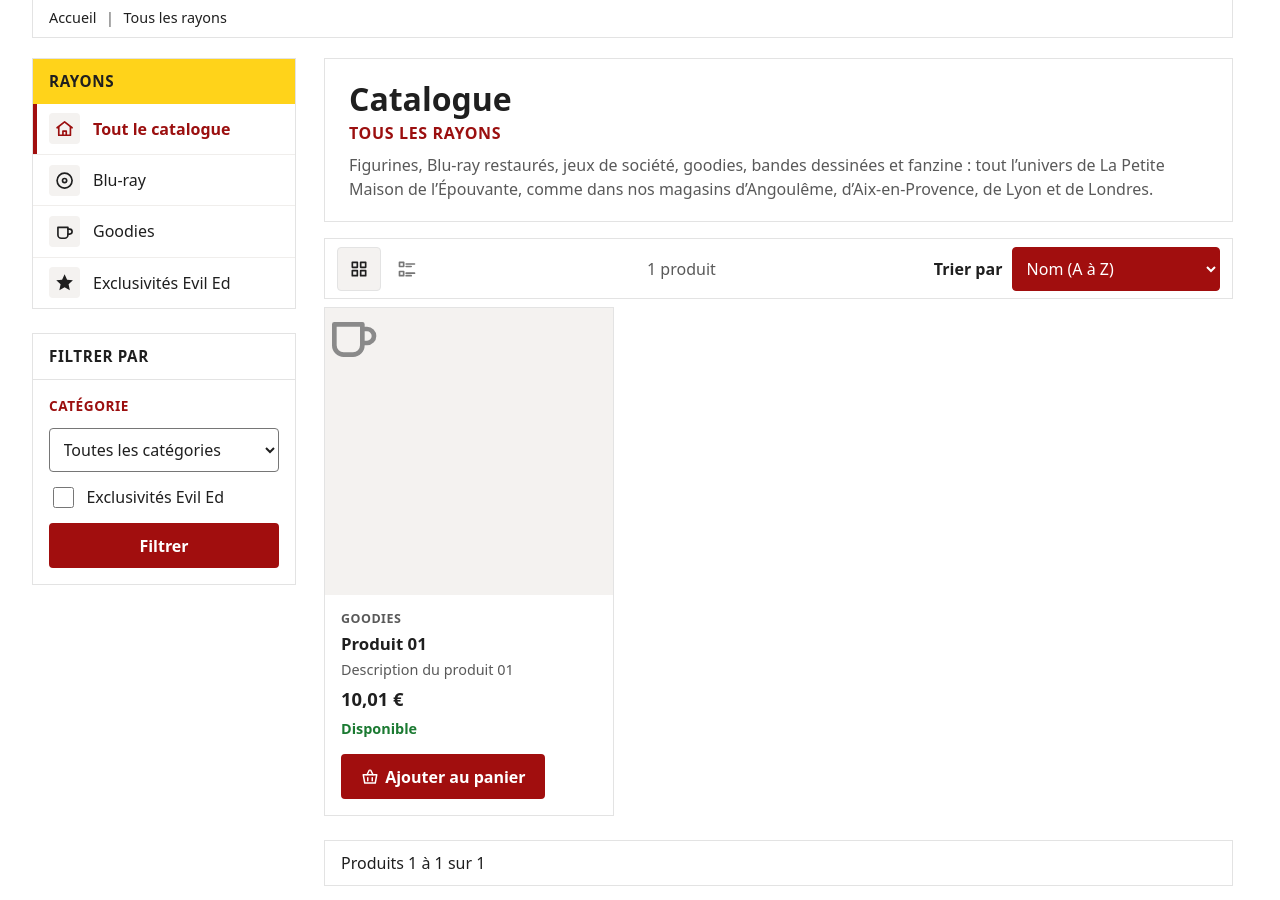
Scenario: Catalogue › filtre par catégorie via un bouton explicite (pas de changement de contexte au choix)
The image size is (1280, 900).
(page scrolled)
Expected: the link "Produit 01" is shown, [341,632,427,655]
Select "Blu-ray" in the dropdown labelled "Catégorie". click: (164, 450)
box: [49,428,279,472]
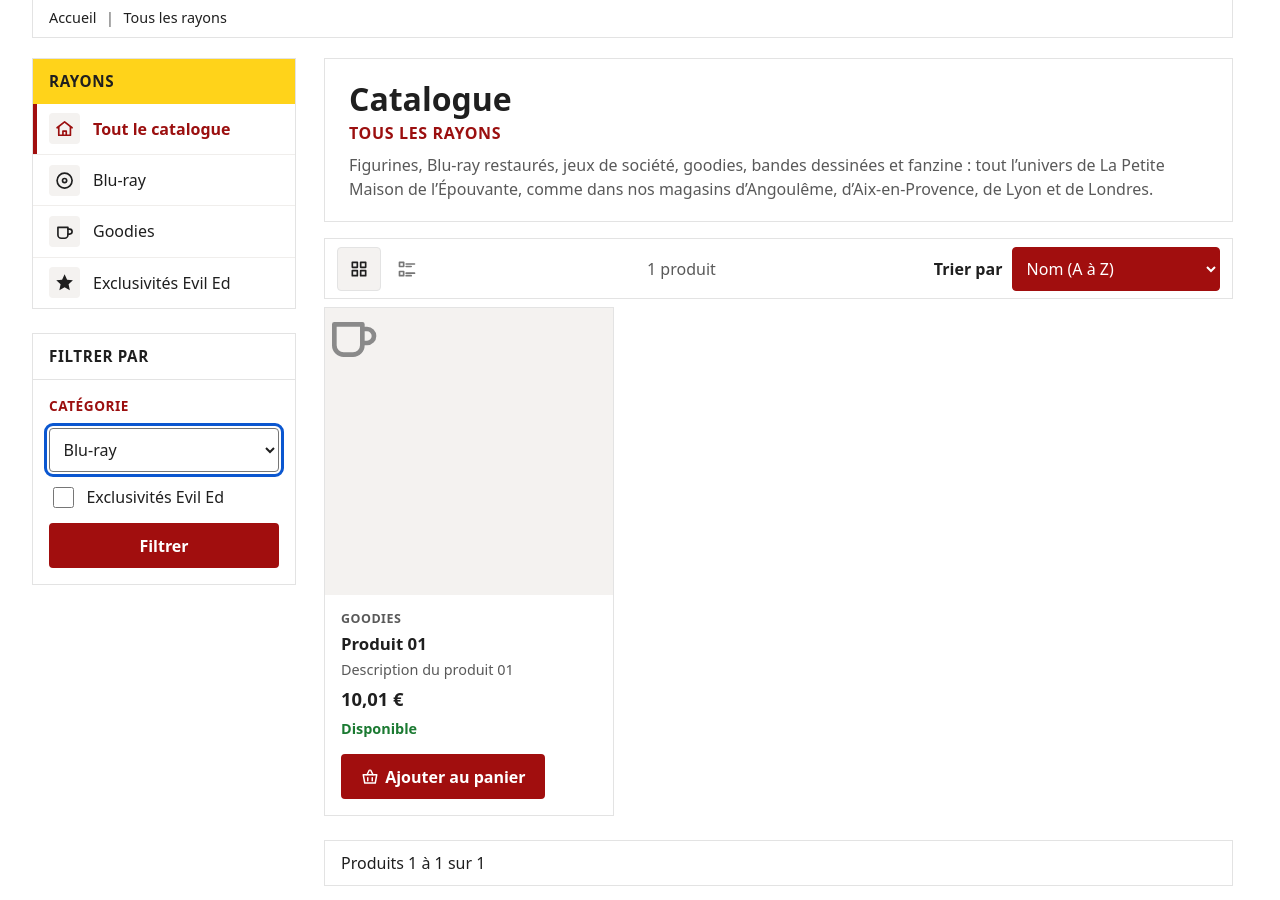
Expected: the link "Produit 01" is shown, [341,632,427,655]
Click the button "Filtrer". click: (164, 546)
box: [49,523,279,568]
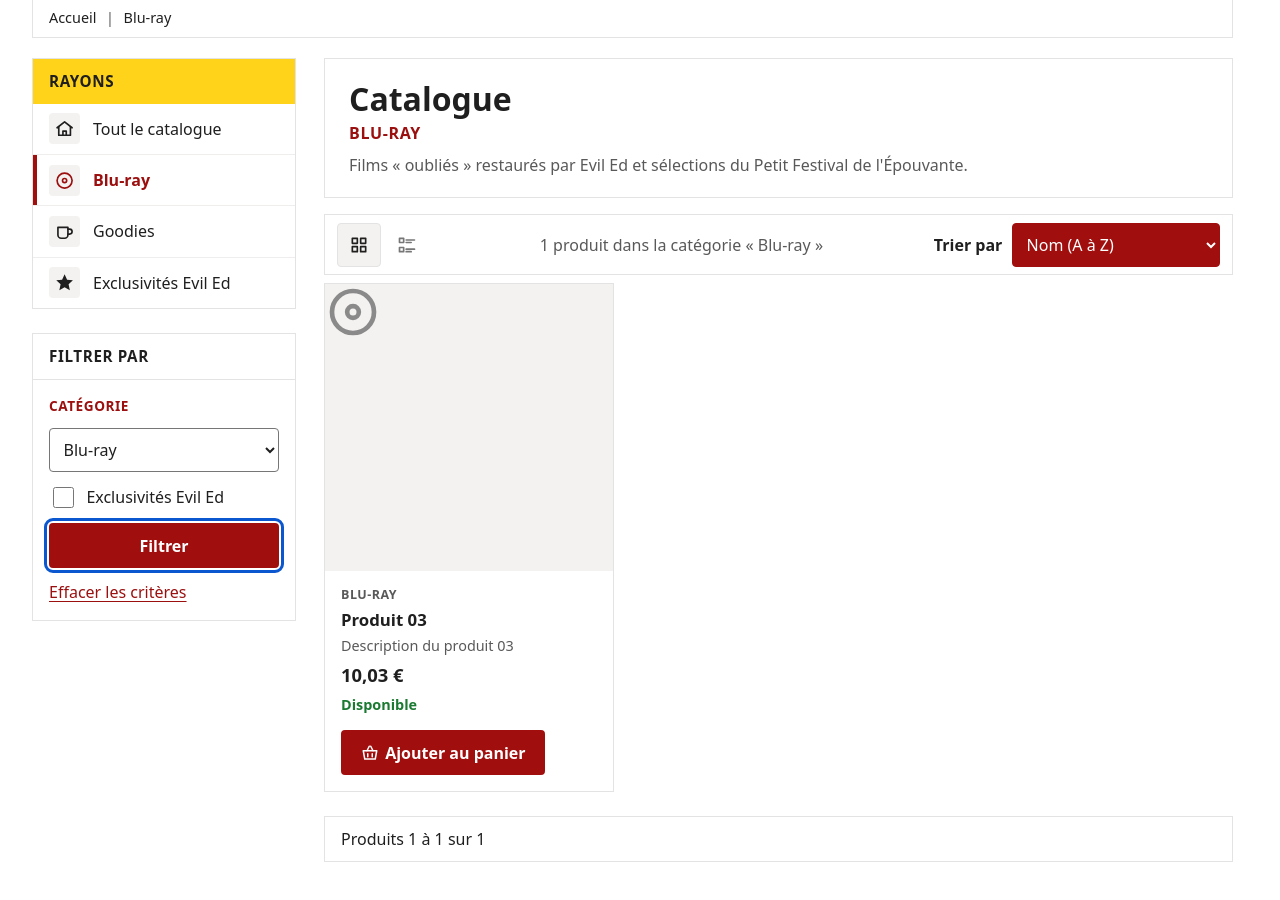
Expected: the link "Produit 03" is shown, [341,608,427,631]
Expected: the text "1 produit dans la catégorie « Blu-ray »" is shown, [540,232,823,256]
Select "Toutes les catégories" in the dropdown labelled "Catégorie". click: (164, 450)
box: [49,428,279,472]
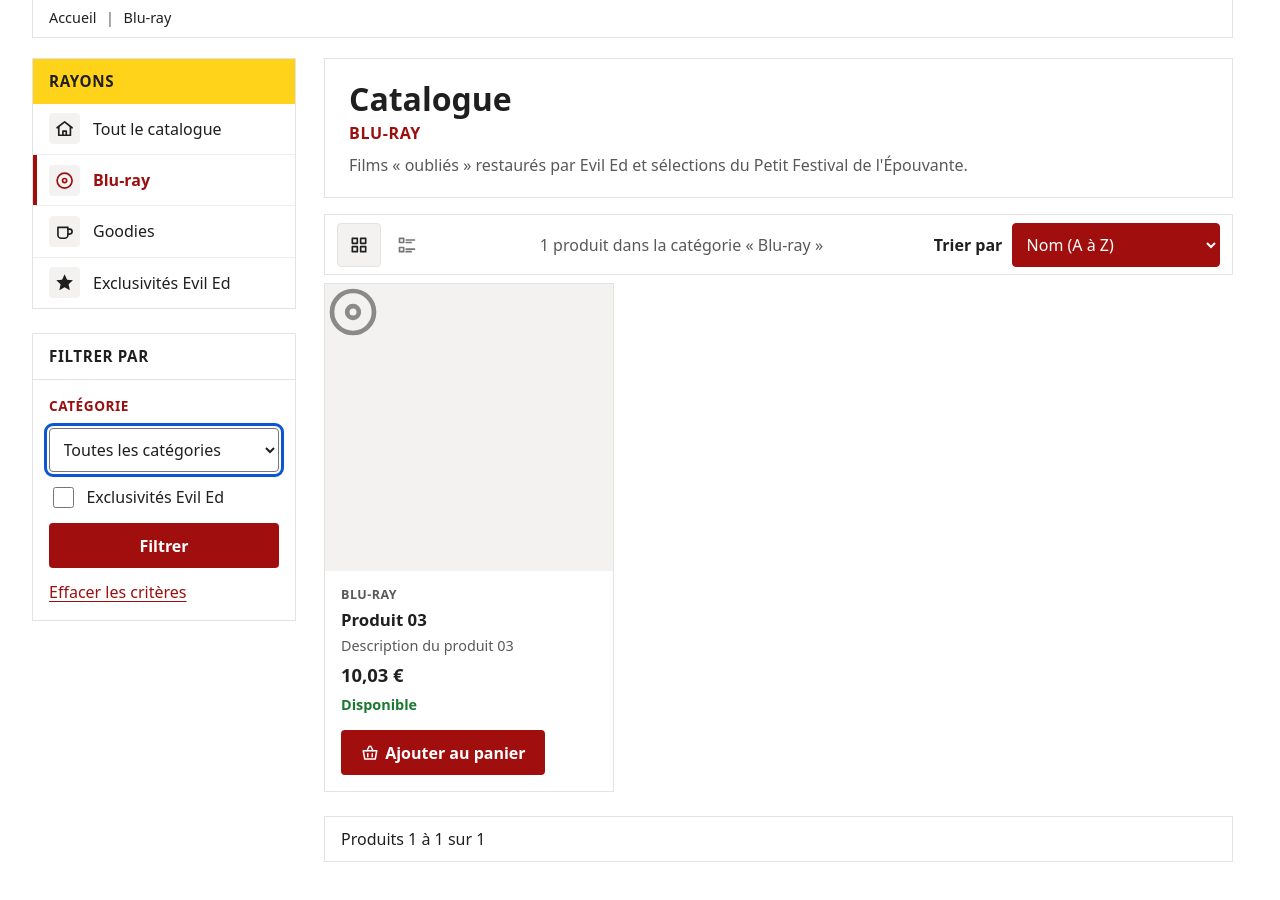
Click the button "Filtrer". click: (164, 546)
box: [49,523,279,568]
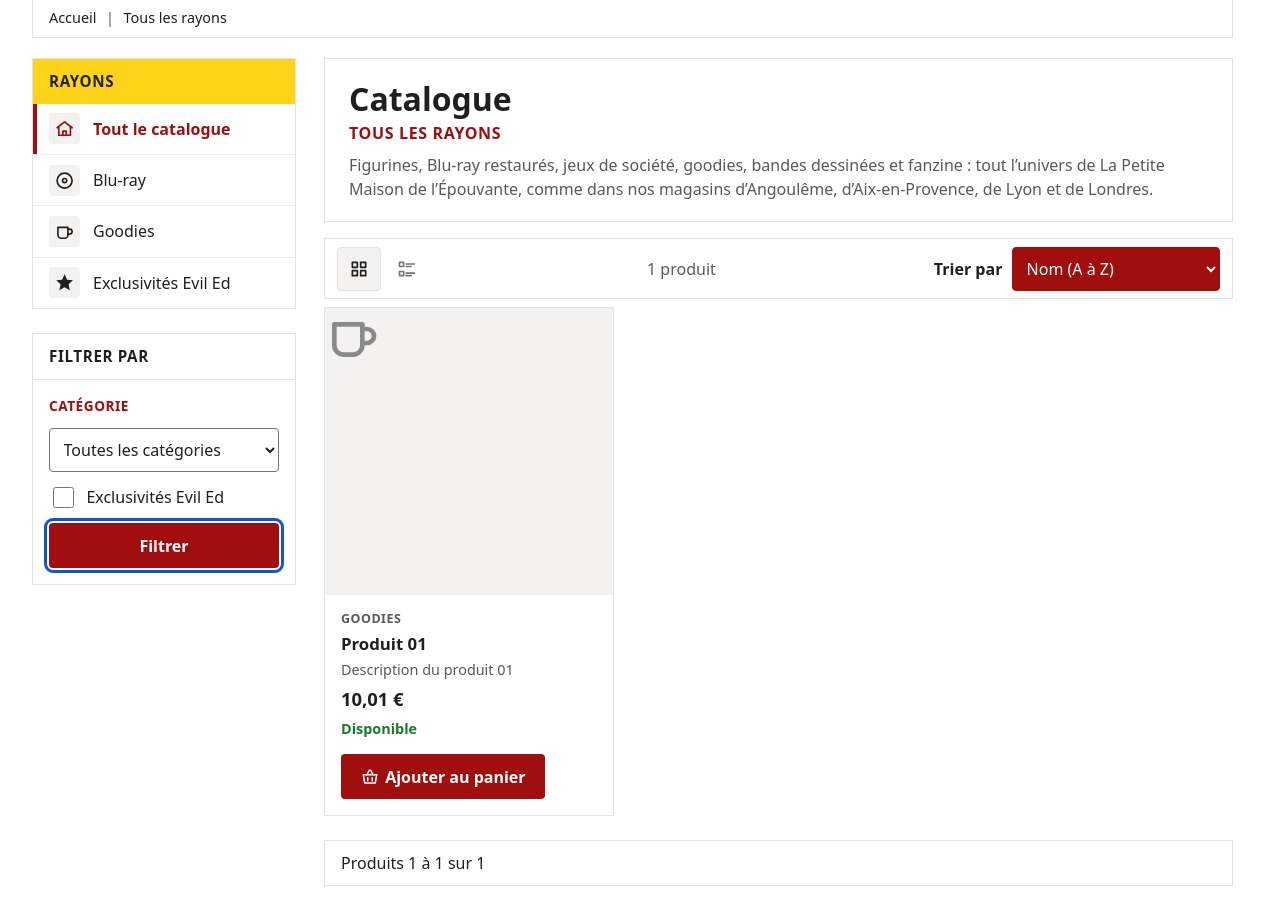
Expected: the link "Produit 01" is shown, [341,632,427,655]
